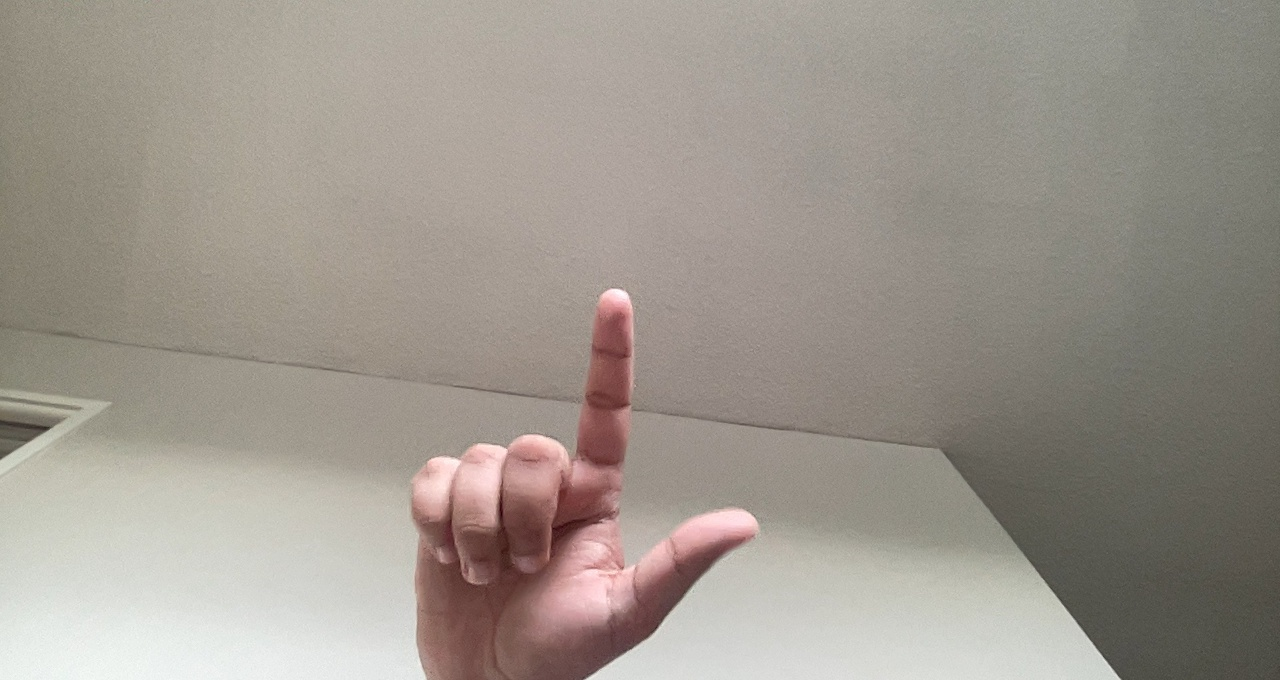L: (370, 283, 773, 677)
